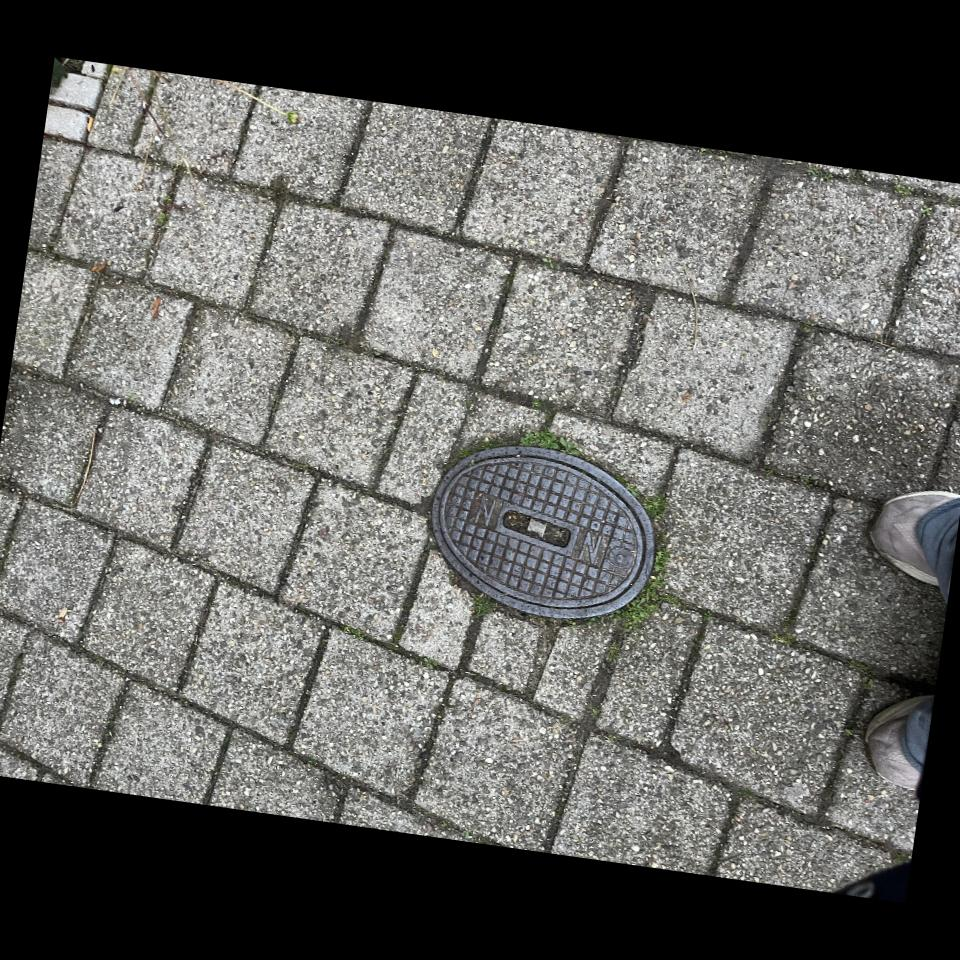weed: (605, 551, 668, 632), (473, 592, 541, 627), (625, 485, 669, 536), (445, 438, 502, 469), (520, 430, 581, 456), (607, 650, 617, 661)
